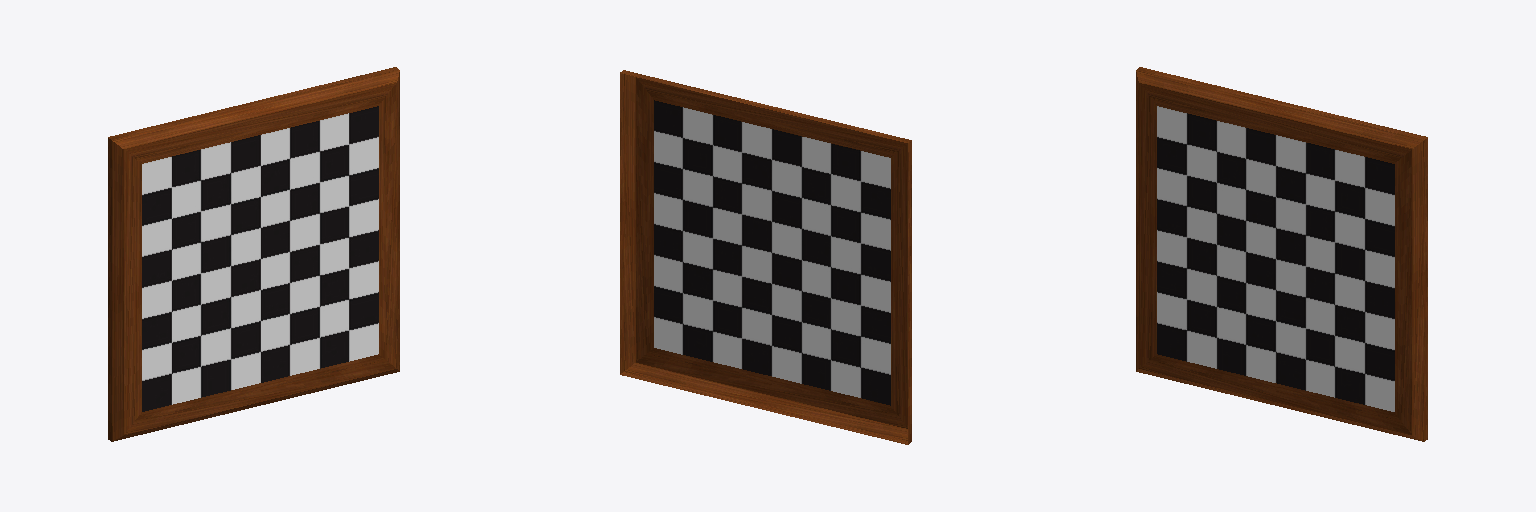
The picture shows the model from 3 angles: view 1: azimuth 30°, elevation 25°; view 2: azimuth 150°, elevation 25°; view 3: azimuth 330°, elevation 25°; orthographic projection.
Visible parts, largest first — view 1: Plane; view 2: Plane; view 3: Plane.
Boxes of the visible parts, box(x1,y1,x2,y2) form: Plane: box(108, 67, 399, 441); Plane: box(620, 70, 911, 444); Plane: box(1136, 67, 1427, 441).
Bounding box in the file's own units: 29.37 × 29.37 × 1.51.
2 materials, 2 textured.